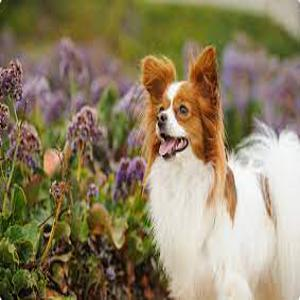yell: (141, 45, 300, 298)
